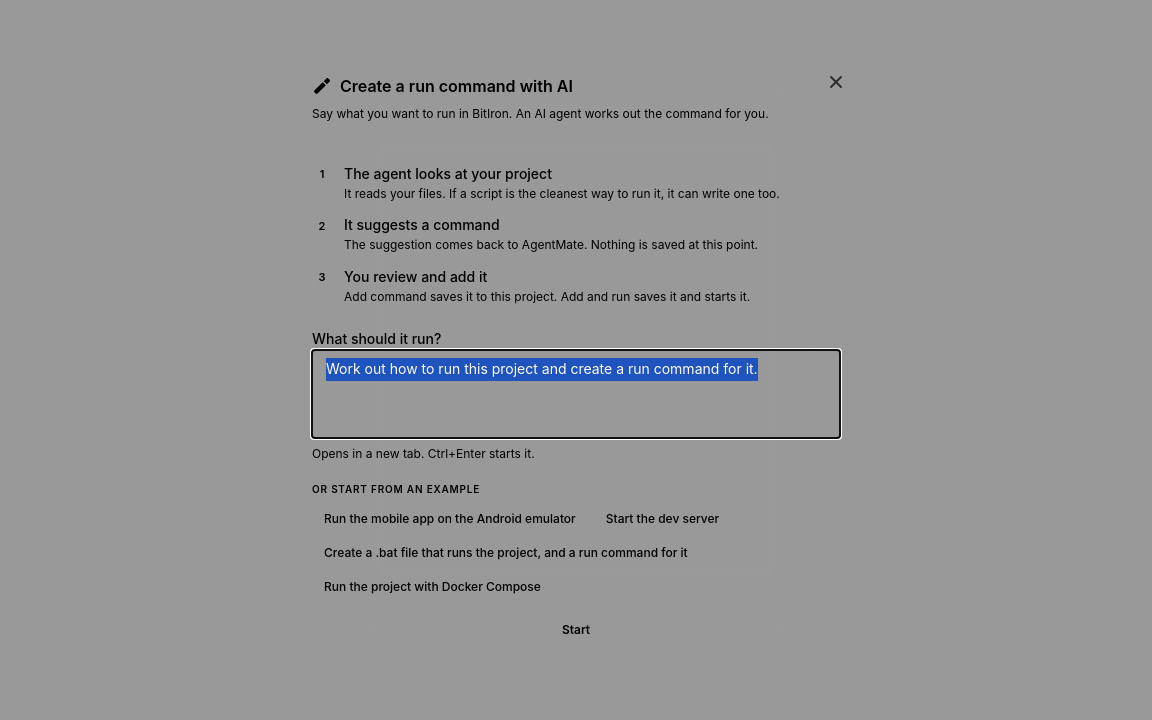
CreateRunWithAiDialog › offers example requests, and choosing one puts it in the box
Click the button "Run the mobile app on the Android emulator" at (450, 519), box top-left (312, 505), bottom-right (588, 533)
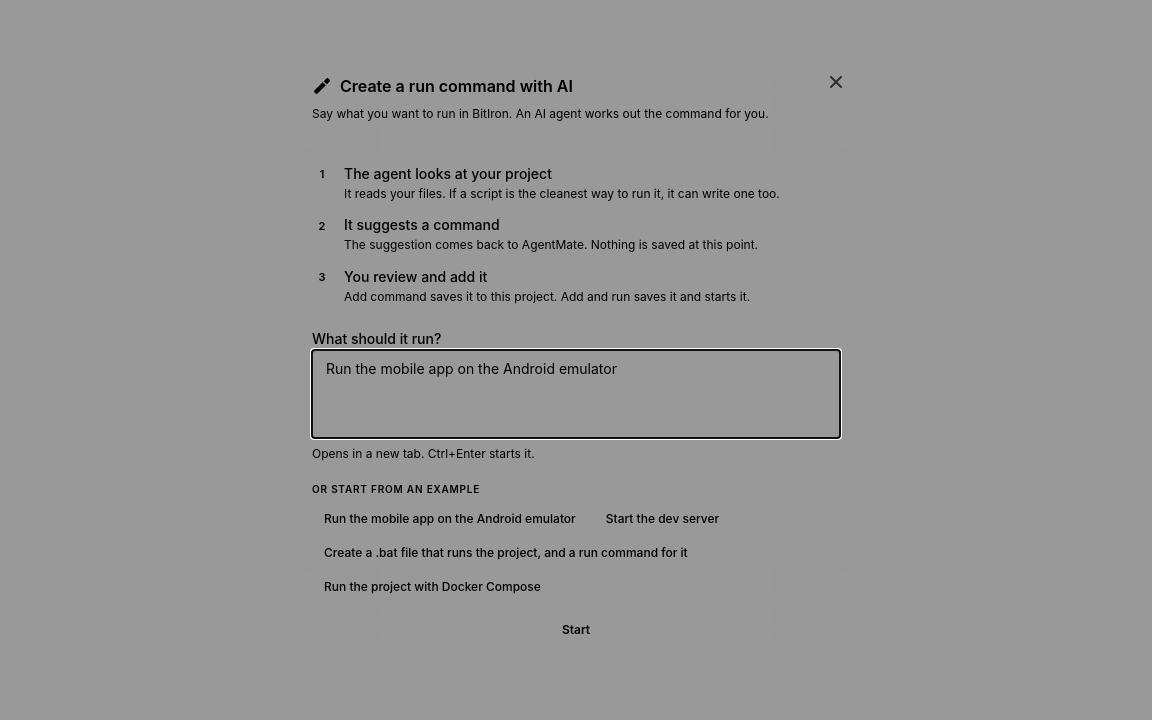
Expected: the button "Create a .bat file" is shown, top-left (312, 539), bottom-right (700, 567)
Now the text box labelled "What should it run?" holds "Run the mobile app on the Android emulator", box top-left (312, 350), bottom-right (840, 438)
